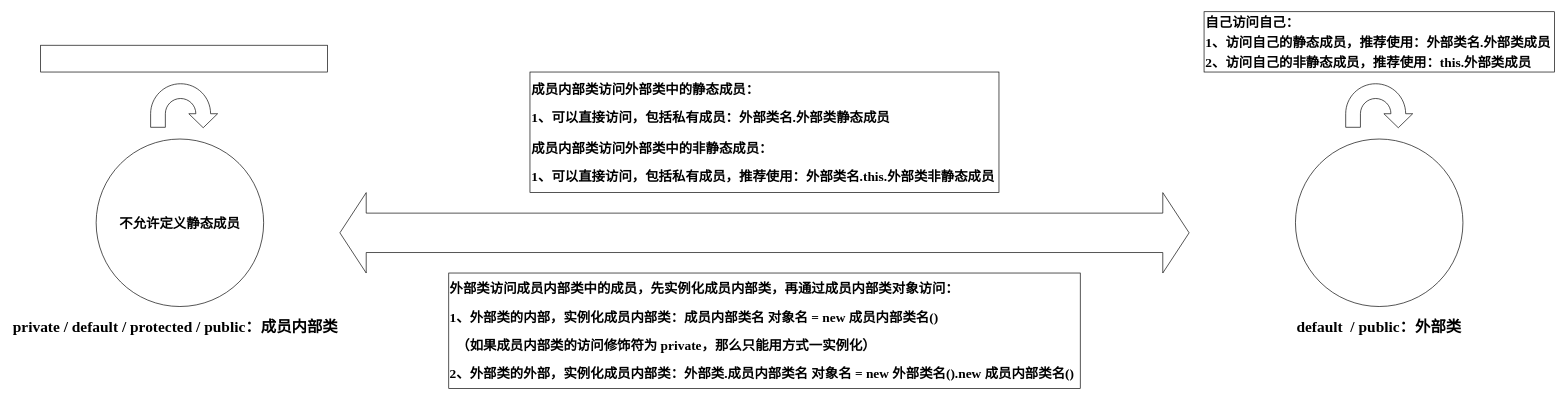
Image size: 1566x403. Some labels were removed from this diagram. Here are the shapes that lost their labels. From the top down, the box of each, then its label:
(40, 45, 327, 72): 自己访问自己，推荐使用：this.成员内部类成员
(339, 192, 1189, 273): 访问成员
